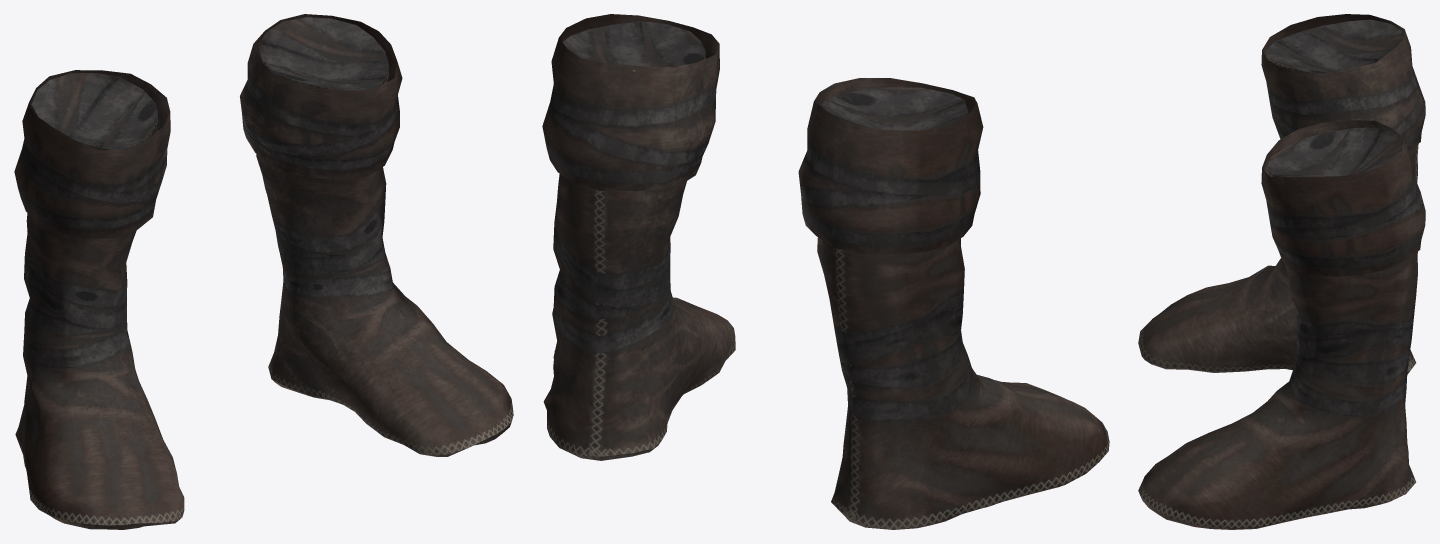
Rendered from sk_gb_uruk_boots_light_b.fbx.
3 renders of one model, left to right at view 1: azimuth 30°, elevation 25°; view 2: azimuth 150°, elevation 25°; view 3: azimuth 270°, elevation 25°, orthographic. The views are drawn at different scales.
Parts seen in each view (by area): view 1: sk_gb_uruk_boots_light_b; view 2: sk_gb_uruk_boots_light_b; view 3: sk_gb_uruk_boots_light_b.
Boxes of the visible parts, <box> form: sk_gb_uruk_boots_light_b: <box>14,14,513,529</box>; sk_gb_uruk_boots_light_b: <box>542,14,1109,529</box>; sk_gb_uruk_boots_light_b: <box>1138,14,1425,529</box>.
Bounding box in the file's own units: 0.5641 × 0.3158 × 0.4128.
1 material, 1 textured.
